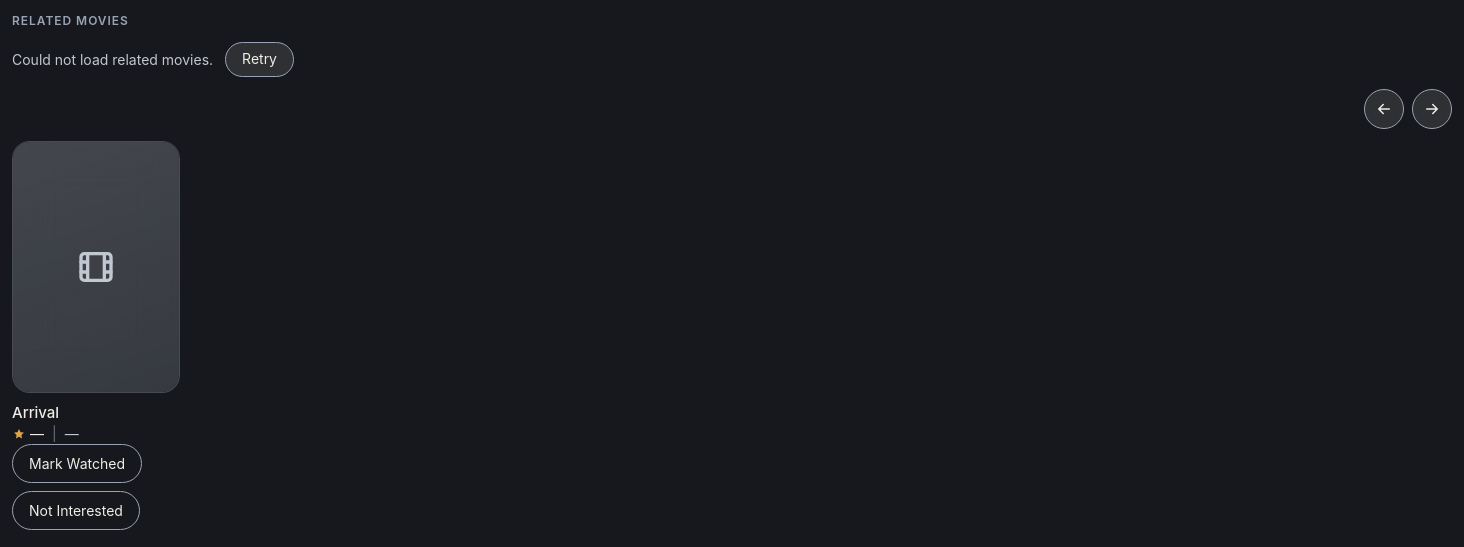
RelatedMovies › retains populated data and shows the local notice when a background refetch fails
Expected: the message reads "Could not load related movies.", top-left (12, 51), bottom-right (213, 68)
Expected: the link "Arrival" is shown, top-left (12, 403), bottom-right (59, 422)
Click the button "Retry": (260, 59) top-left (225, 42), bottom-right (294, 77)
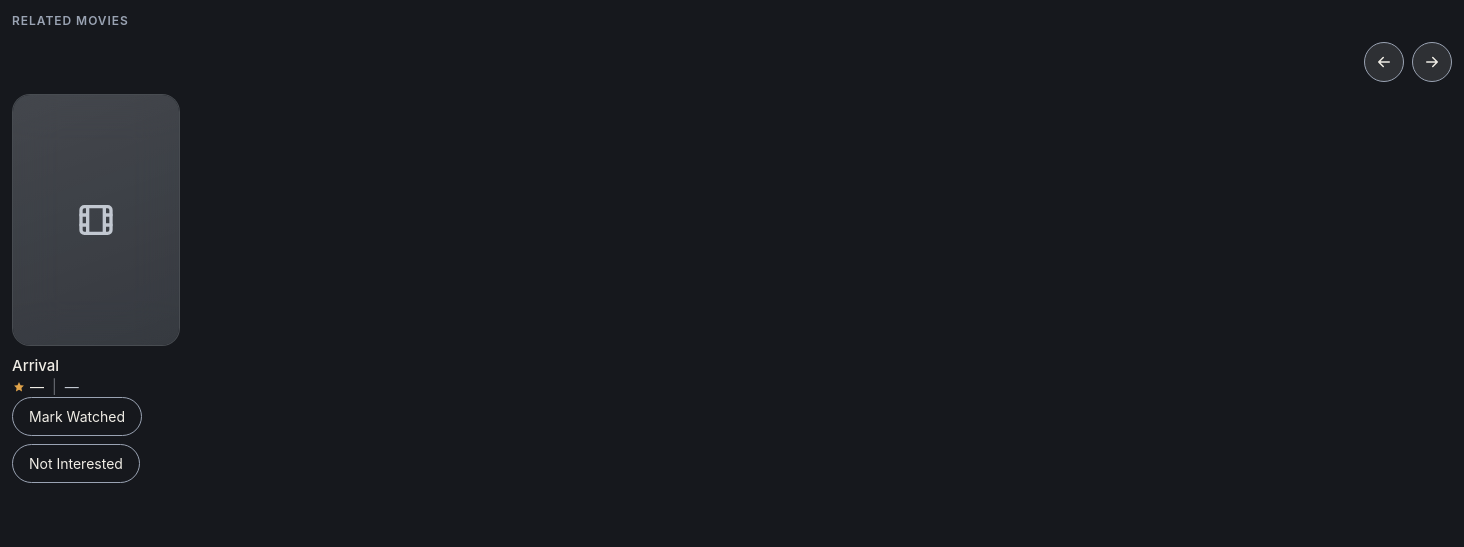
Expected: the link "Arrival" is shown, top-left (12, 356), bottom-right (59, 375)
Result: the message "Could not load related movies." is gone
